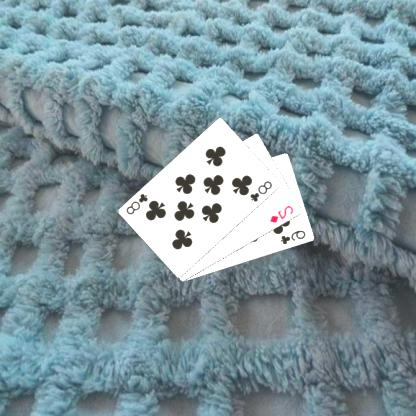2D: (269, 203, 297, 224)
8C: (249, 178, 276, 203), (126, 191, 152, 216)
9C: (280, 227, 310, 246)
